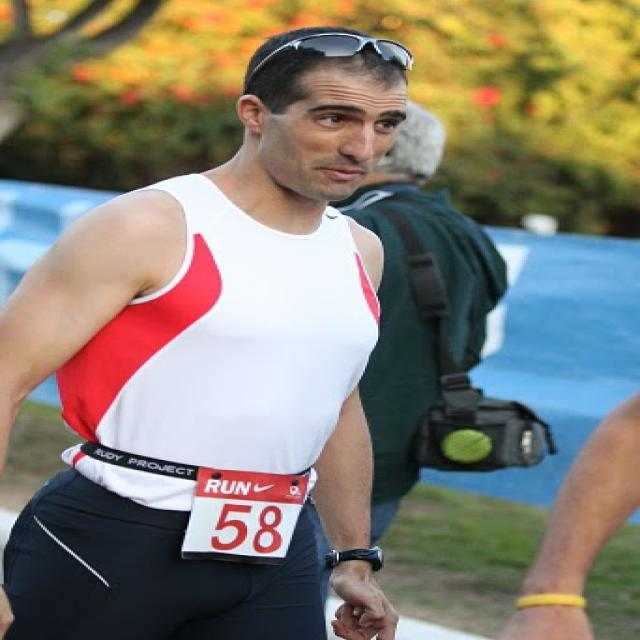Bib: (194, 503, 289, 559)
